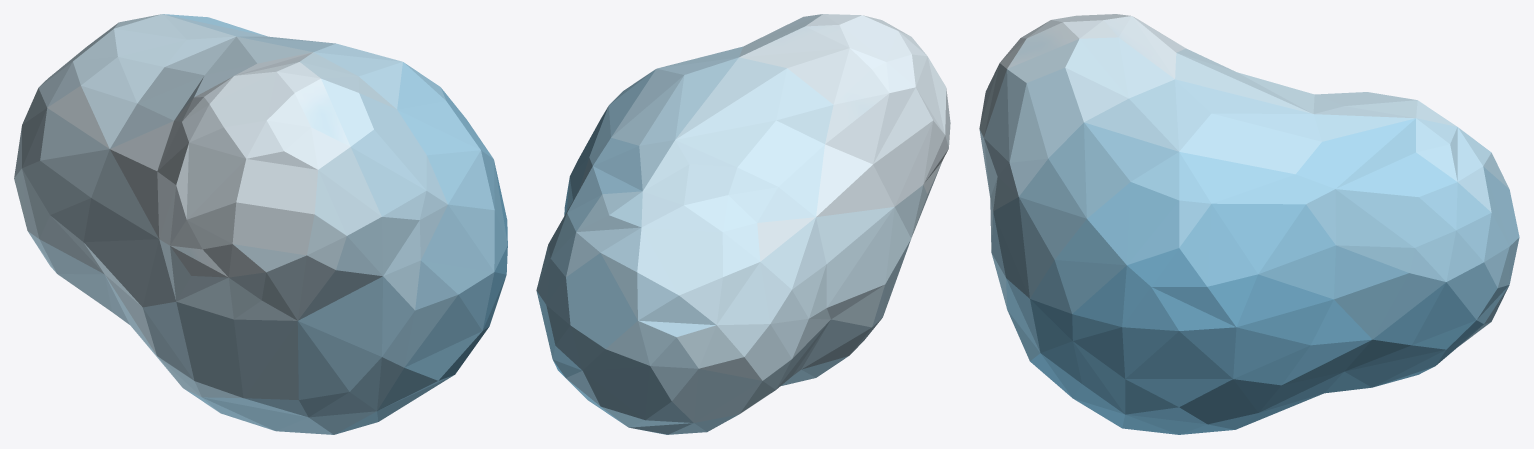
The model's file is water.gltf.
3 renders of one model, left to right at view 1: azimuth 30°, elevation 25°; view 2: azimuth 150°, elevation 25°; view 3: azimuth 270°, elevation 25°, orthographic. The views are drawn at different scales.
Parts seen in each view (by area): view 1: GeoSphere017; view 2: GeoSphere017; view 3: GeoSphere017.
Boxes of the visible parts, x1,y1,x2,y2 form: GeoSphere017: (14,14,507,434); GeoSphere017: (536,14,950,434); GeoSphere017: (979,14,1519,434).
Bounding box in the file's own units: 1.18 × 1.27 × 1.7.
Materials: 1 (1 with a texture image).
